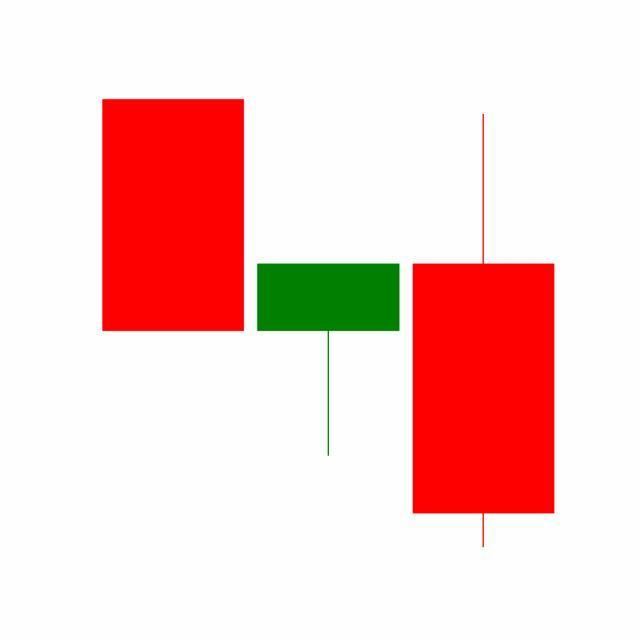Hammer: (250, 262, 407, 459)
